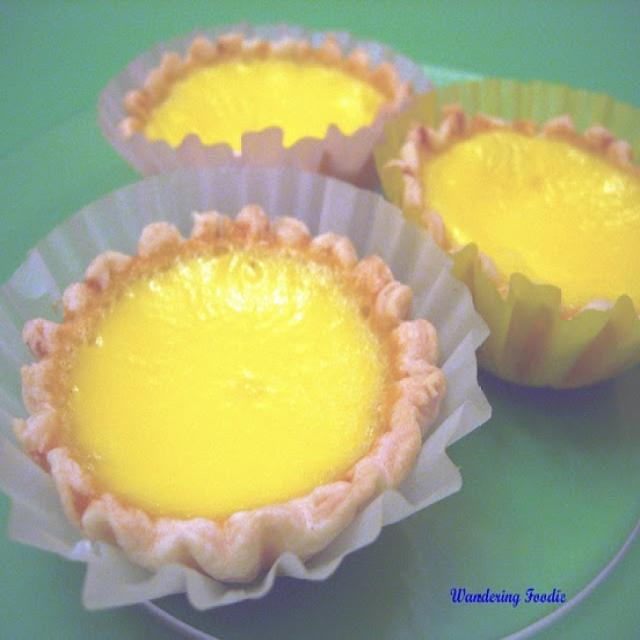炸货点心: (21, 23, 627, 613)
蛋糕甜品: (21, 23, 627, 613)
